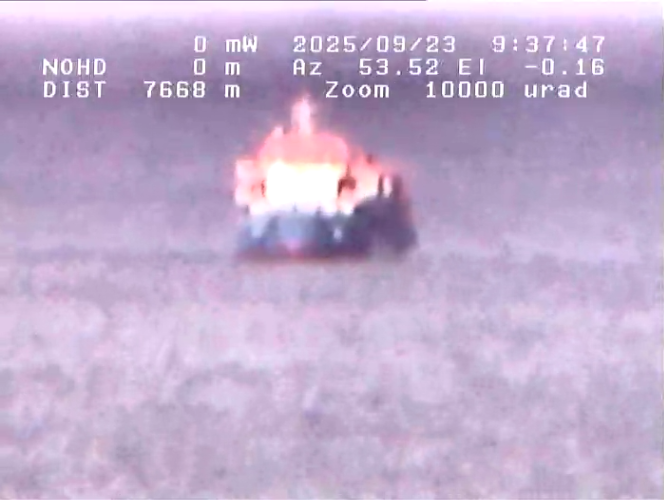TANKER: (222, 73, 428, 287)
